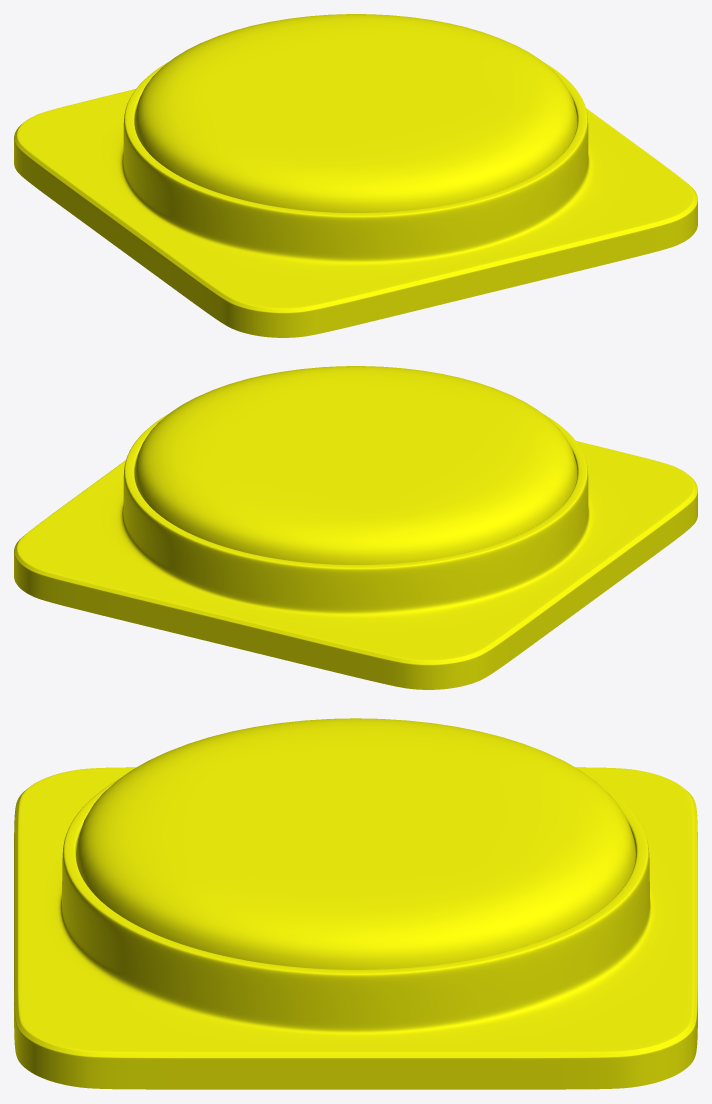
The picture shows the model from 3 angles, top to bottom: view 1: azimuth 30°, elevation 25°; view 2: azimuth 150°, elevation 25°; view 3: azimuth 270°, elevation 25°; orthographic projection. The views are drawn at different scales.
Parts seen in each view (by area): view 1: button_1, button2; view 2: button_1, button2; view 3: button_1, button2.
Boxes of the visible parts, <box> form: button_1: <box>14,61,697,337</box>; button2: <box>134,14,577,212</box>; button_1: <box>14,413,697,689</box>; button2: <box>134,366,577,564</box>; button_1: <box>14,767,697,1089</box>; button2: <box>76,718,635,969</box>.
Bounding box in the file's own units: 2 × 0.4061 × 2.
1 material, 1 textured.
